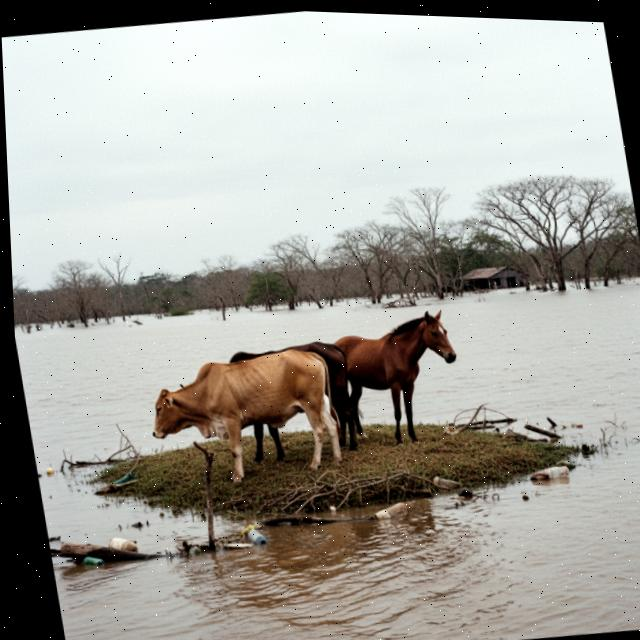cow: (131, 336, 355, 501)
horse: (323, 302, 481, 459), (220, 330, 381, 463)
